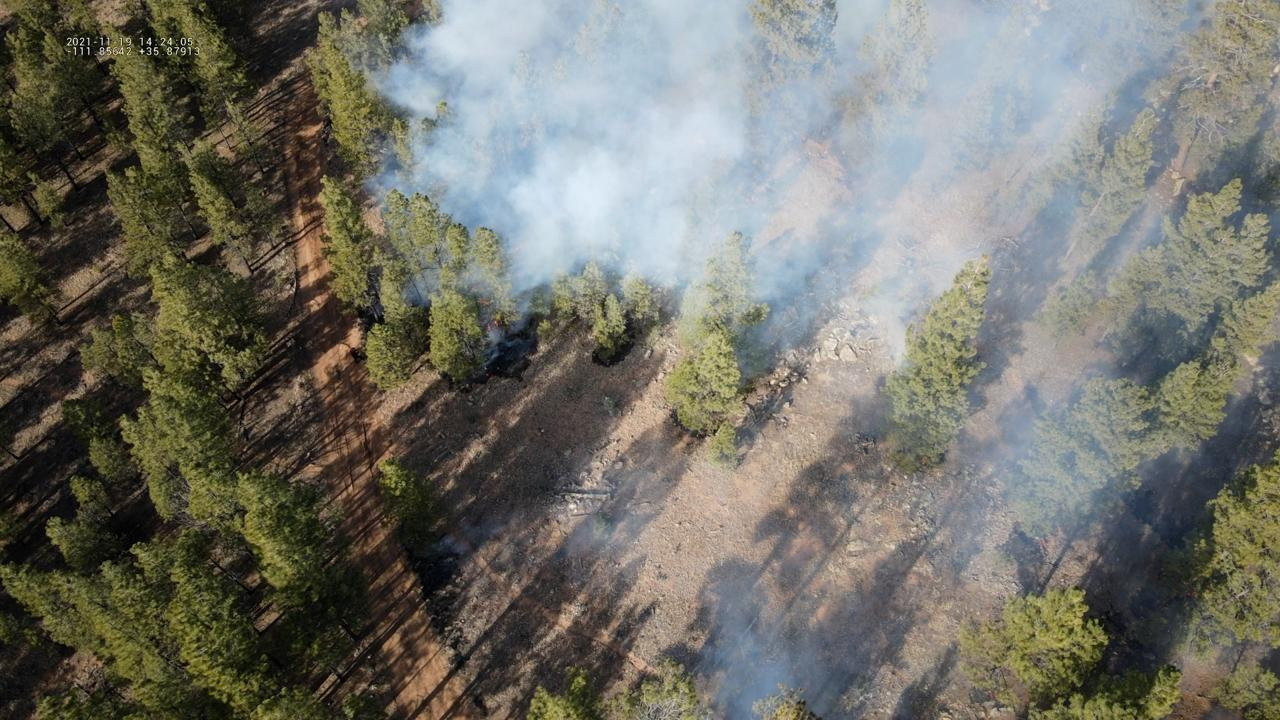fire: (486, 323, 492, 332), (480, 300, 490, 305), (494, 320, 497, 325)
smoke: (345, 0, 1280, 580), (684, 578, 862, 720), (418, 512, 510, 558)
